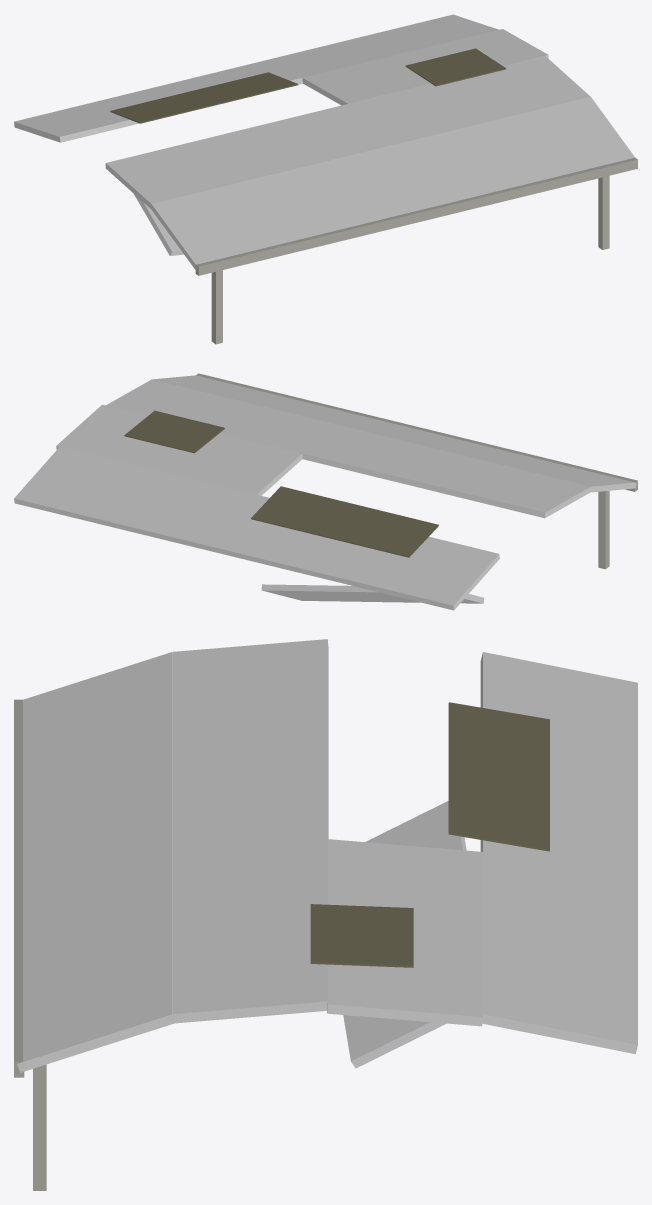
File: SM_VestibuloCastellon_v3_Caida_LOD1.fbx
The picture shows the model from 3 angles, top to bottom: view 1: azimuth 30°, elevation 25°; view 2: azimuth 150°, elevation 25°; view 3: azimuth 270°, elevation 25°; orthographic projection. The views are drawn at different scales.
Parts seen in each view (by area): view 1: Cubierta; view 2: Cubierta; view 3: Cubierta.
Boxes of the visible parts, x1,y1,x2,y2 form: Cubierta: [14, 14, 637, 344]; Cubierta: [14, 373, 637, 610]; Cubierta: [14, 639, 637, 1190].
Size of what is drawn, in the model's own units: 25.2 by 7.69 by 18.19.
